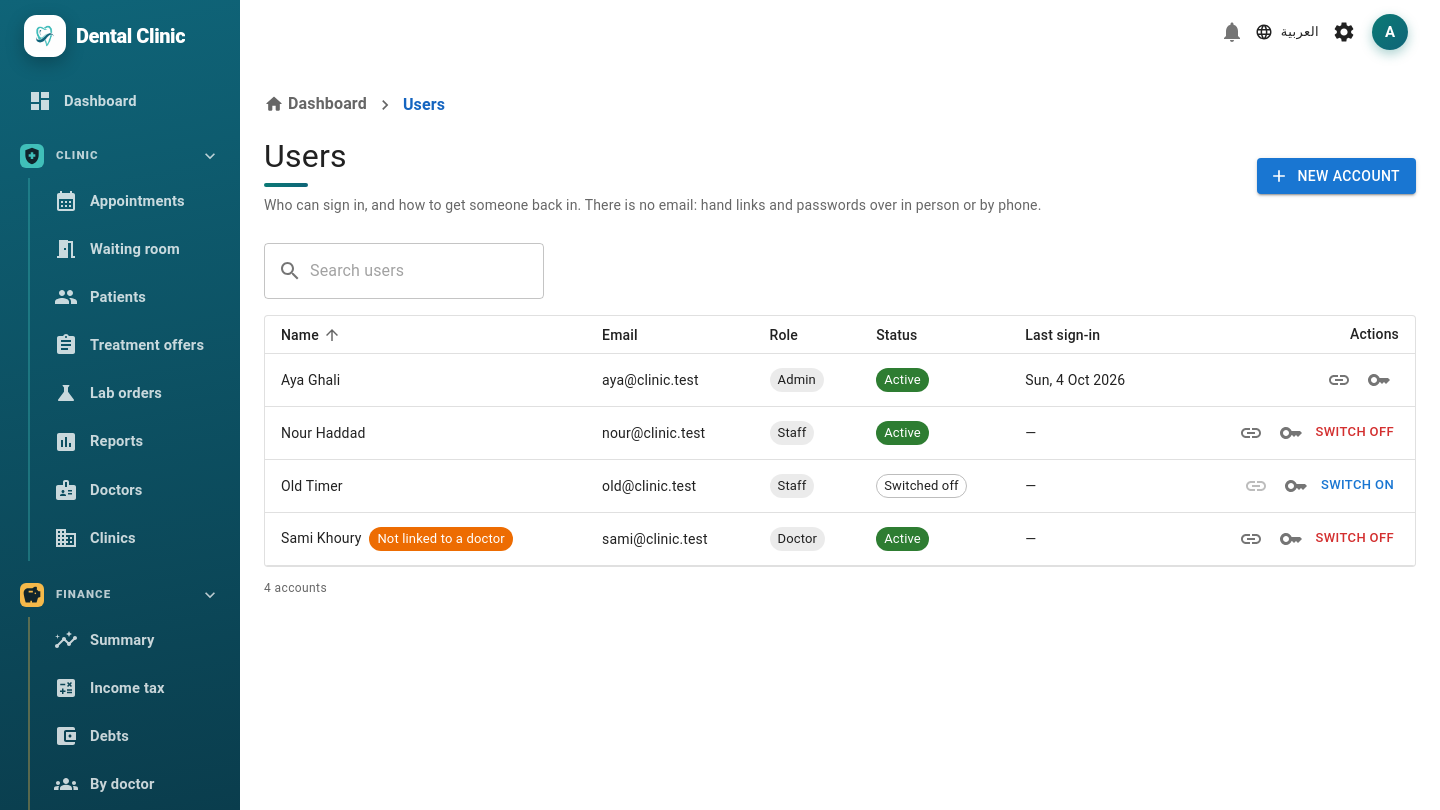
Test: users page › asks before making a temporary password, then shows it once
Click the button named "Temporary password for Nour Haddad" at (1290, 433), box [1270,413,1310,453]
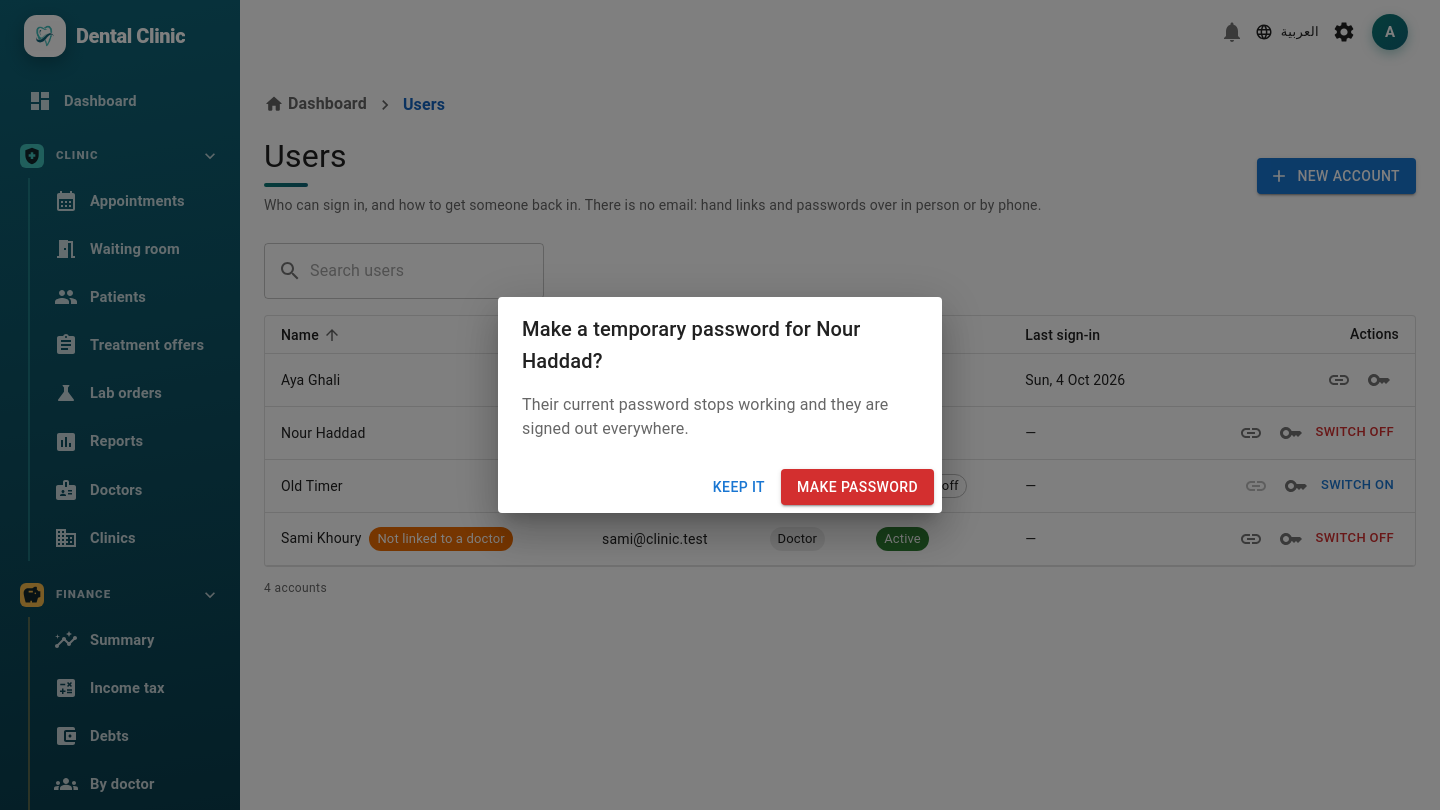
Click the button "Make password" at (858, 487), box [781,469,934,505]
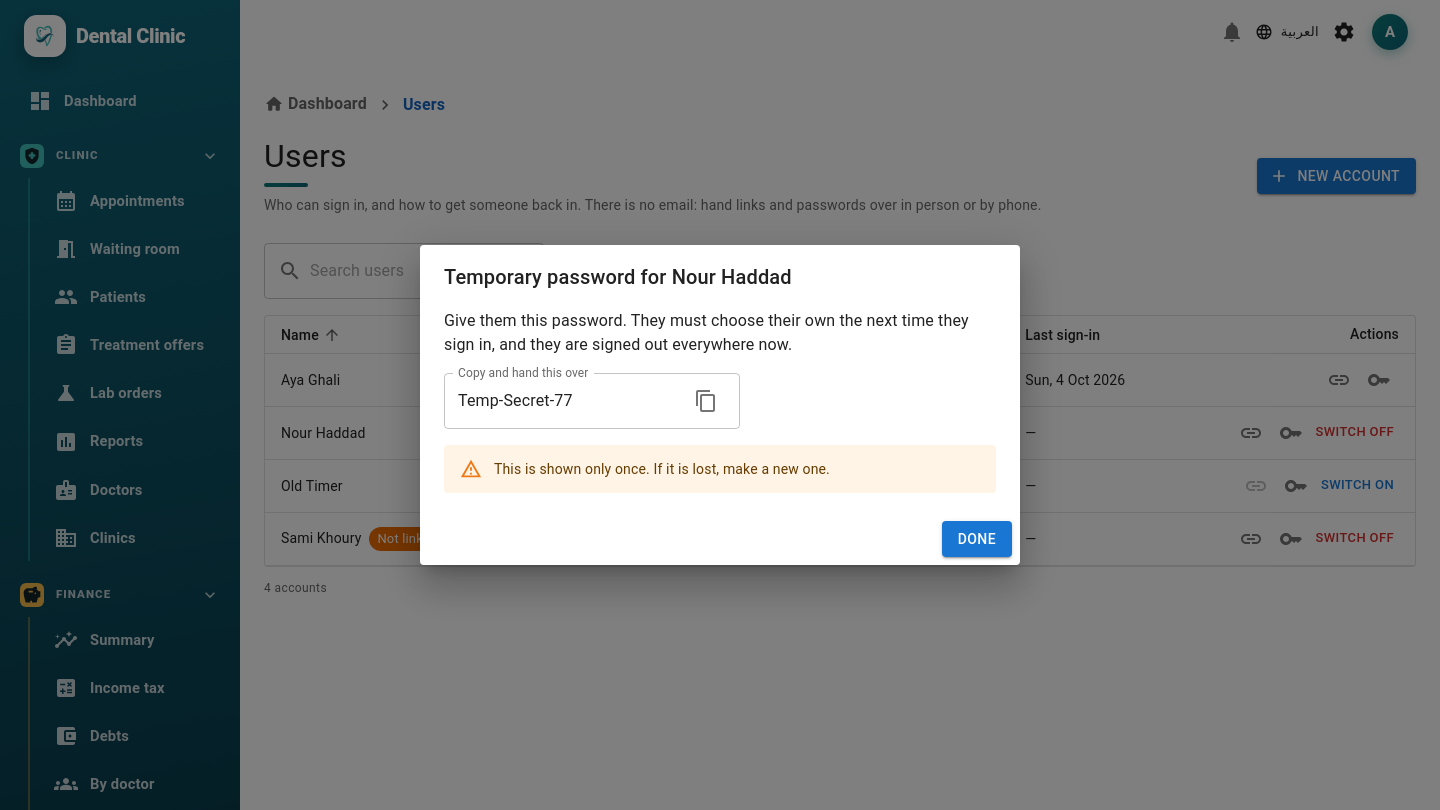
Now the field showing "Temp-Secret-77" is shown, box [444,373,678,429]
